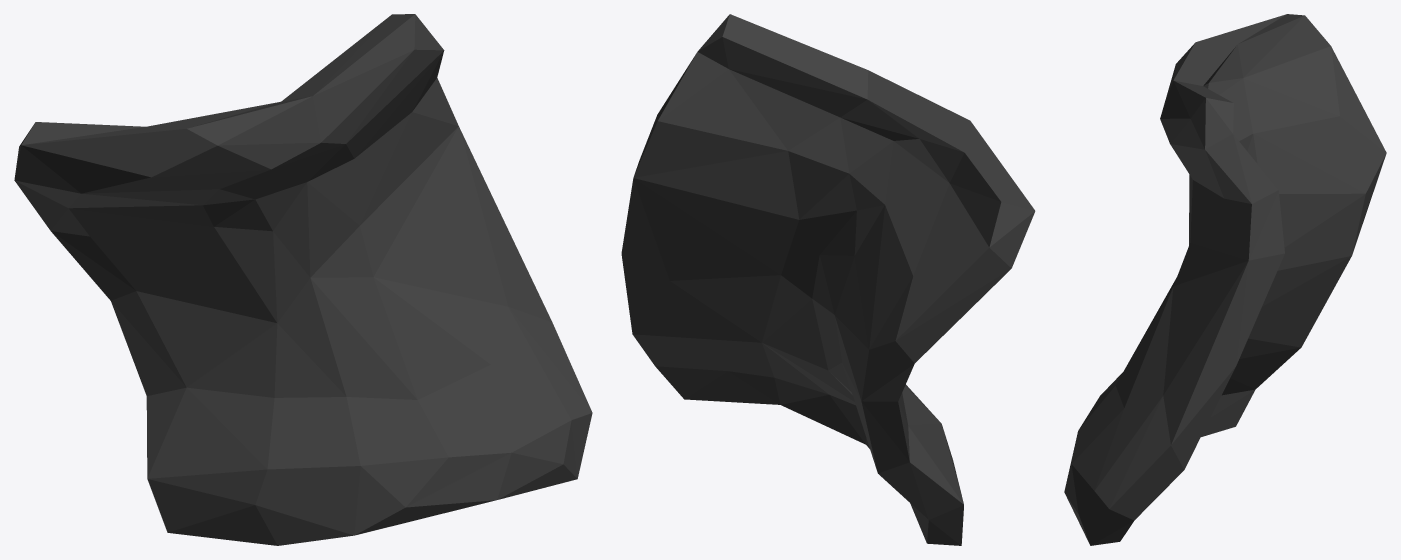
File: Tibia_intercondyloid_eminence.glb
The picture shows the model from 3 angles, left to right: view 1: azimuth 30°, elevation 25°; view 2: azimuth 150°, elevation 25°; view 3: azimuth 270°, elevation 25°; orthographic projection. The views are drawn at different scales.
Parts seen in each view (by area): view 1: Tibia_intercondyloid_eminence; view 2: Tibia_intercondyloid_eminence; view 3: Tibia_intercondyloid_eminence.
Boxes of the visible parts, x1,y1,x2,y2 form: Tibia_intercondyloid_eminence: [14, 14, 592, 545]; Tibia_intercondyloid_eminence: [621, 14, 1035, 545]; Tibia_intercondyloid_eminence: [1064, 14, 1386, 545].
Bounding box in the file's own units: 0.0149 × 0.0141 × 0.00966.
Materials: 1 (1 with a texture image).
